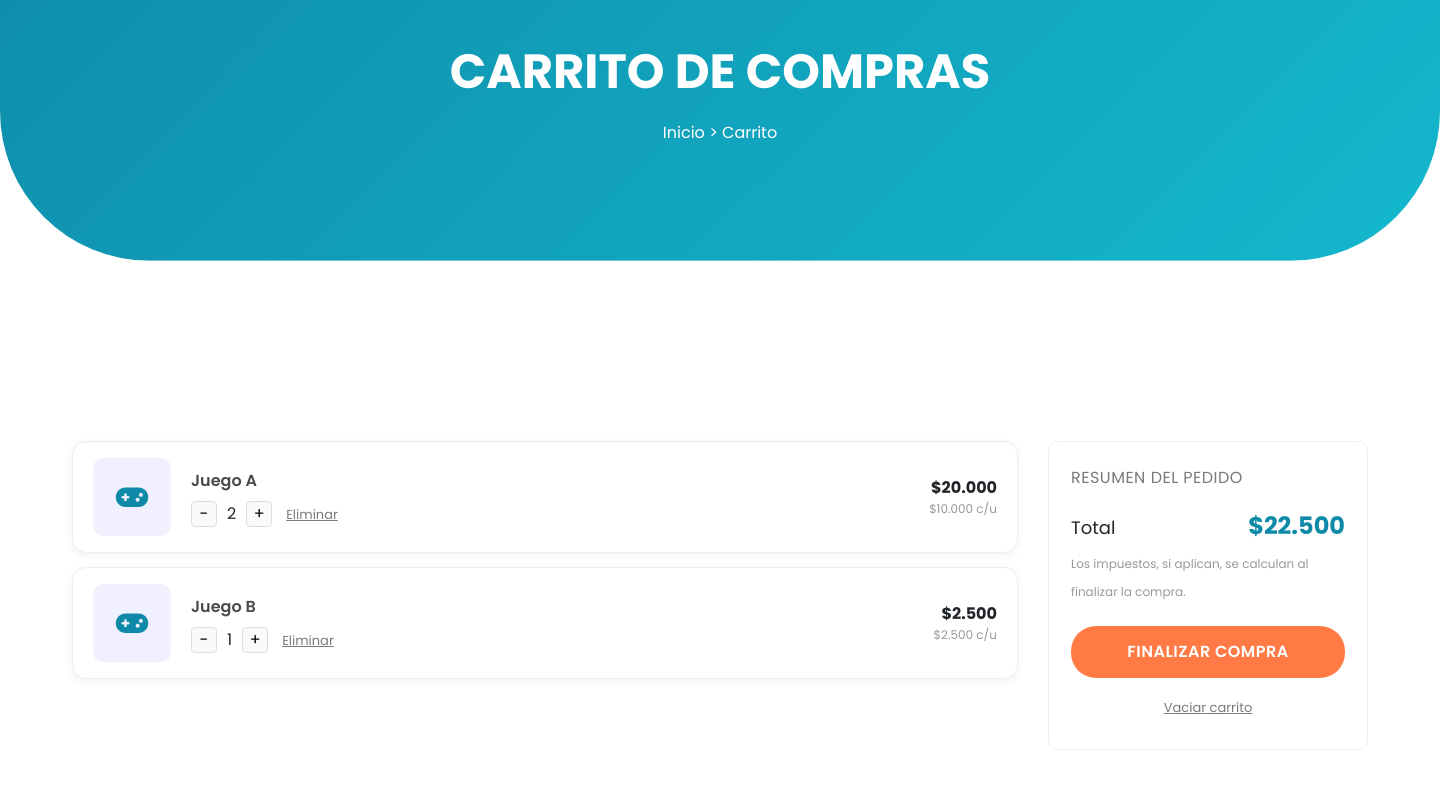
Página Carrito › Finalizar compra con sesión iniciada agradece y vacía el carrito
(page scrolled)
Click the button "Finalizar compra". click: (1208, 652)
box: [1071,626,1345,678]
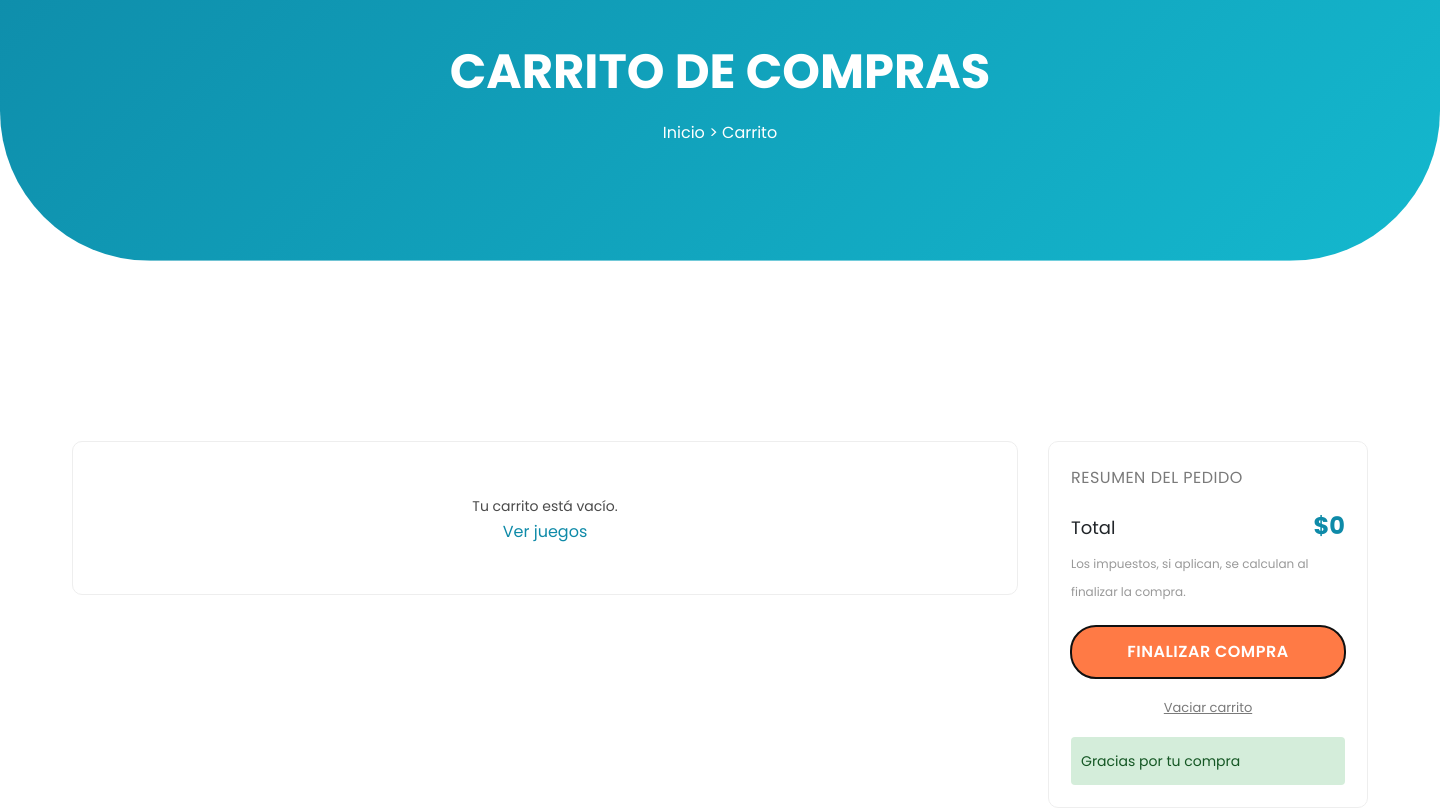
Now the text "Gracias por tu compra" is shown, box [1071,737,1345,785]
